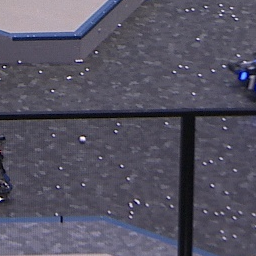Blue: (240, 70, 256, 93)
